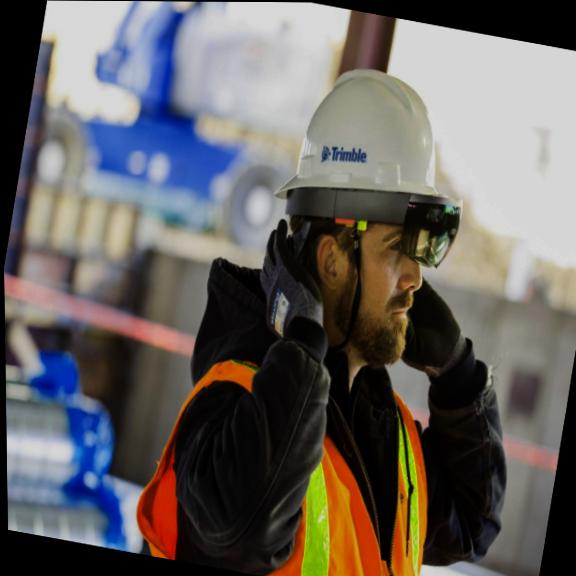safety_vest: (126, 340, 454, 576)
